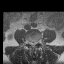CCS_normal: (32, 40, 34, 48)
LFS_normal: (36, 38, 38, 45)
LLS_normal: (34, 40, 36, 47)
RFS_normal: (28, 39, 30, 46)
RLS_normal: (30, 40, 32, 48)
